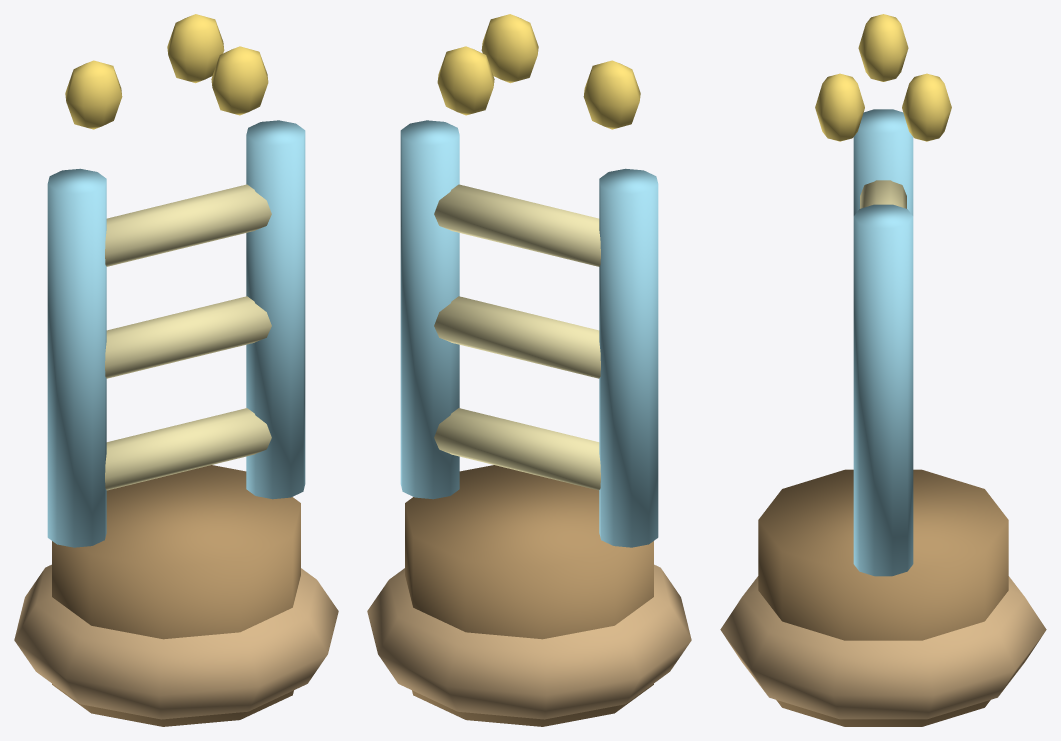
Rendered from star_ladder.fbx.
3 views of the same model, side by side, from view 1: azimuth 30°, elevation 25°; view 2: azimuth 150°, elevation 25°; view 3: azimuth 270°, elevation 25° (orthographic).
Parts seen in each view (by area): view 1: PLQ_star_ladder_mature; view 2: PLQ_star_ladder_mature; view 3: PLQ_star_ladder_mature.
Boxes of the visible parts, bbox=[...] form: PLQ_star_ladder_mature: bbox=[14, 14, 338, 726]; PLQ_star_ladder_mature: bbox=[367, 14, 691, 726]; PLQ_star_ladder_mature: bbox=[720, 14, 1046, 726].
Size of the model in its own units: 76.69 by 175 by 80.63.
